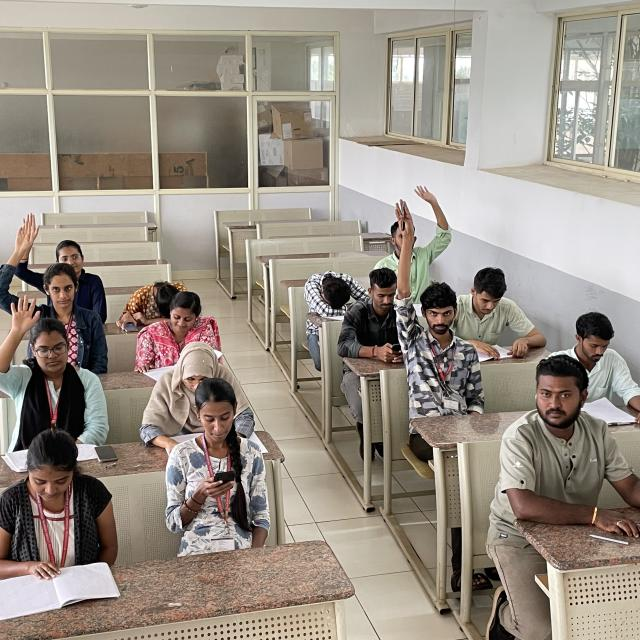Hand Rising: (390, 198, 472, 398), (4, 297, 104, 435), (8, 226, 100, 340), (15, 212, 116, 314), (383, 180, 442, 288)
Reading: (0, 430, 100, 620), (145, 339, 272, 456), (549, 310, 638, 429), (454, 267, 545, 360), (141, 295, 233, 380)
Sleeping: (124, 277, 201, 318), (298, 267, 367, 311)
Using Phone: (163, 384, 273, 522), (340, 271, 421, 364)
